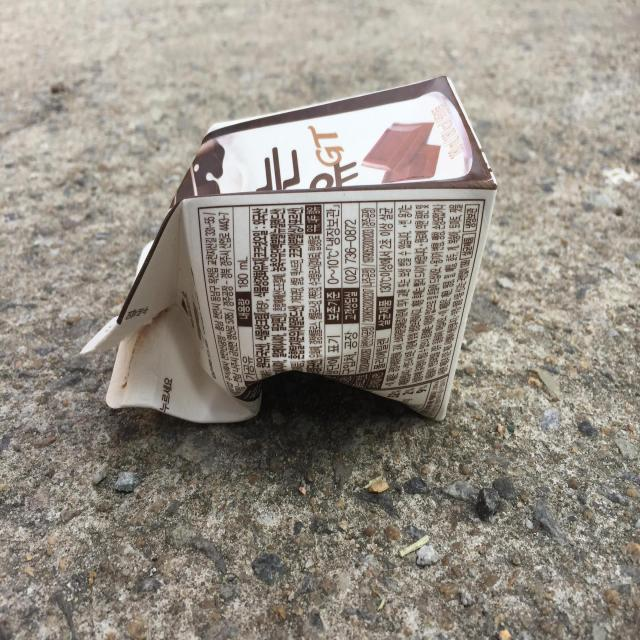paperpack: (81, 76, 498, 423)
